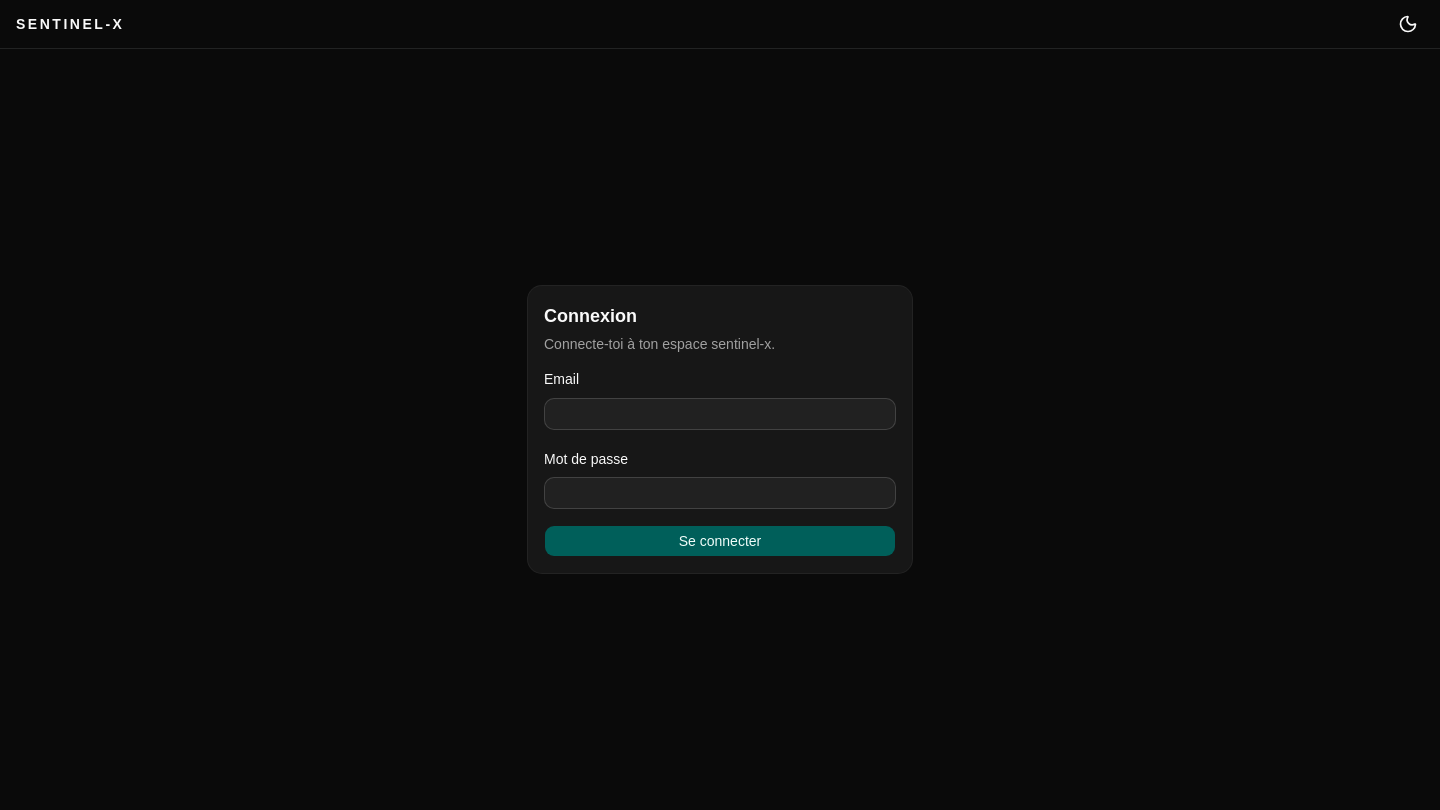
Test: LoginPage › reports an unreachable server
The width and height of the screenshot is (1440, 810).
Type "alice@example.com" into the field labelled "Email". click: (720, 414)
box: [544,398,896,430]
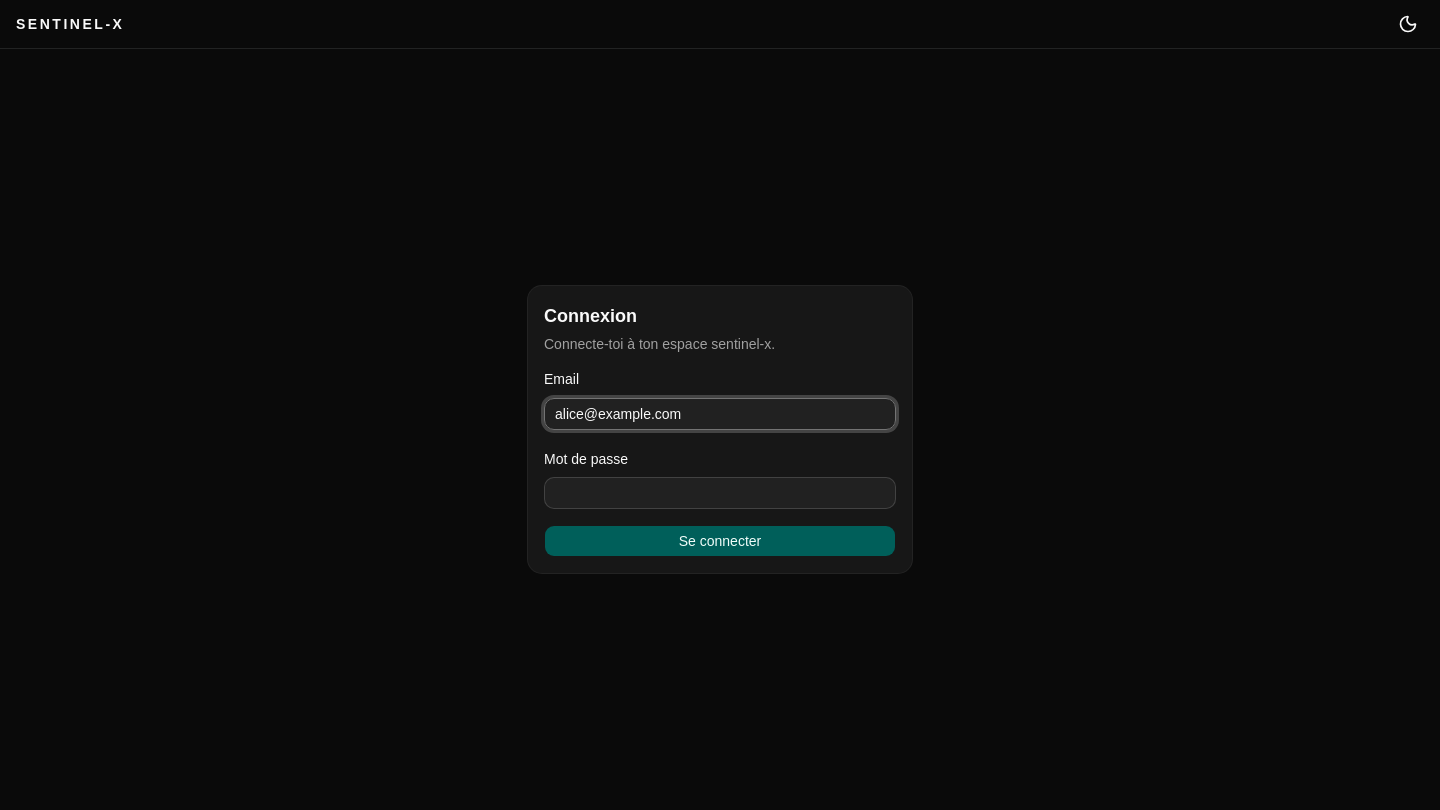
Type "secret123" into the password field labelled "Mot de passe". click: (720, 493)
box: [544,477,896,509]
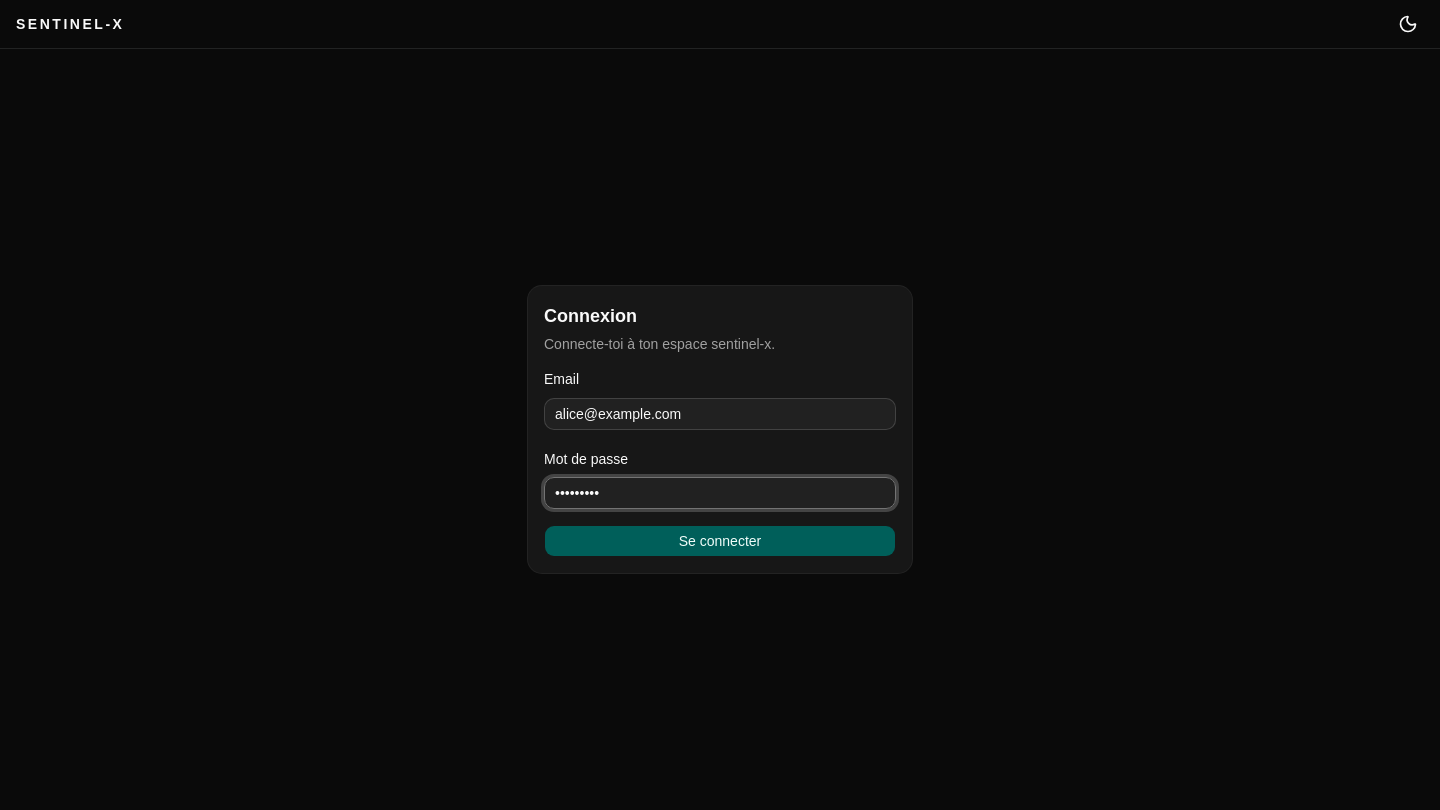
Click the button "Se connecter". click: (720, 541)
box: [544,525,896,557]
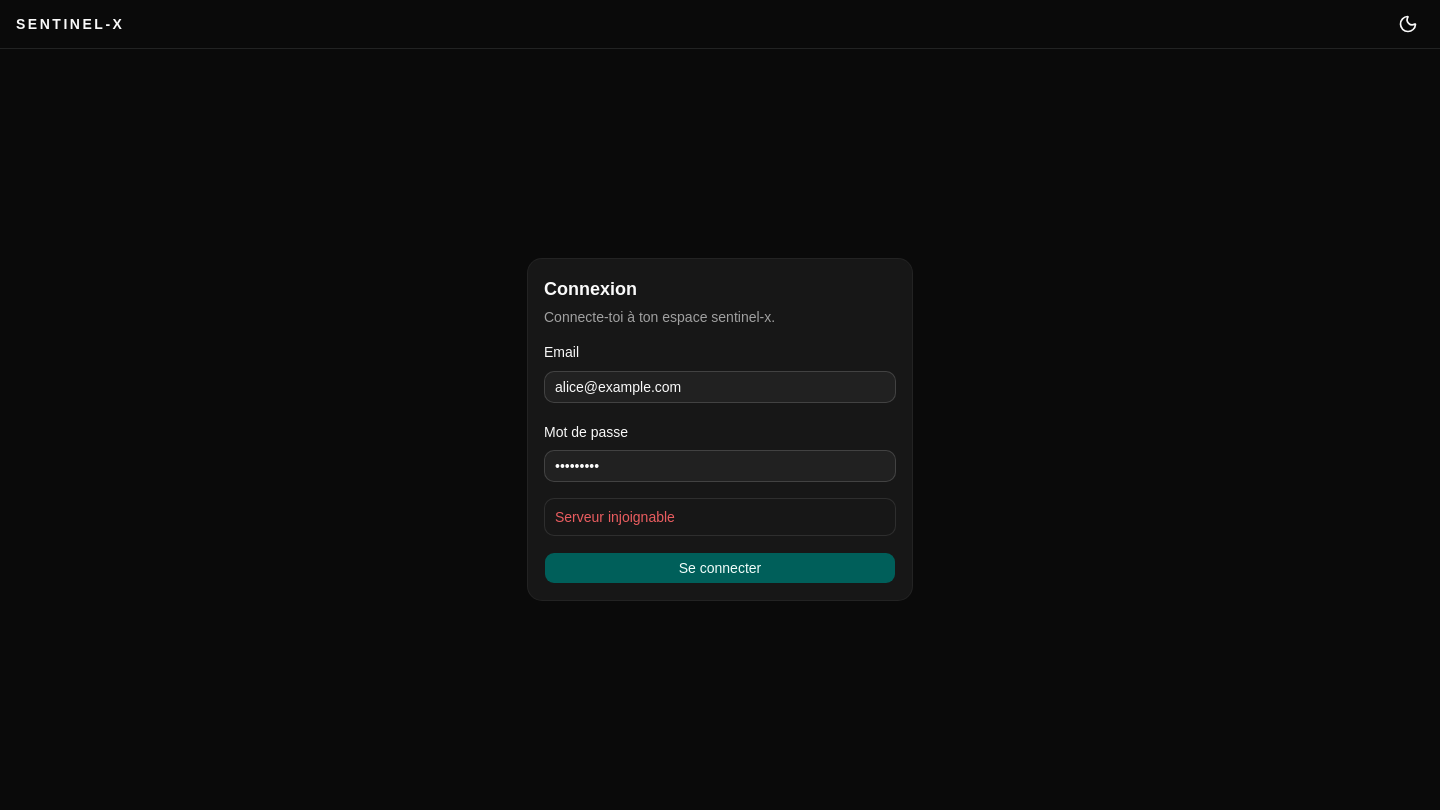
Expected: the message reads "Serveur injoignable", [555,509,675,525]
